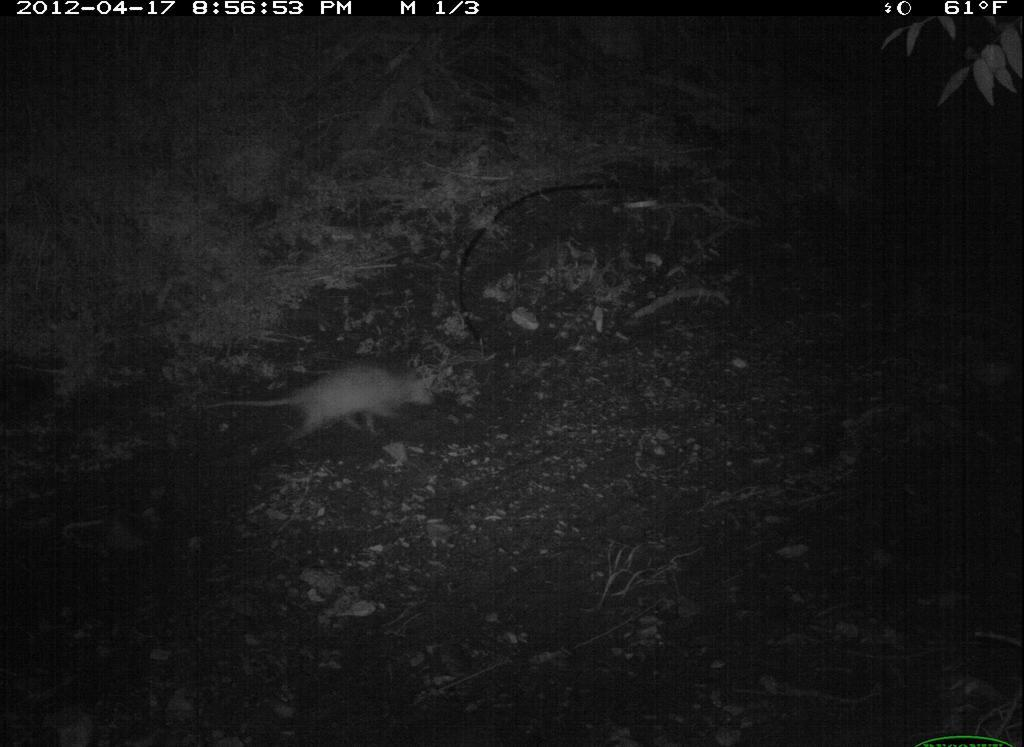opossum: (193, 356, 446, 447)
